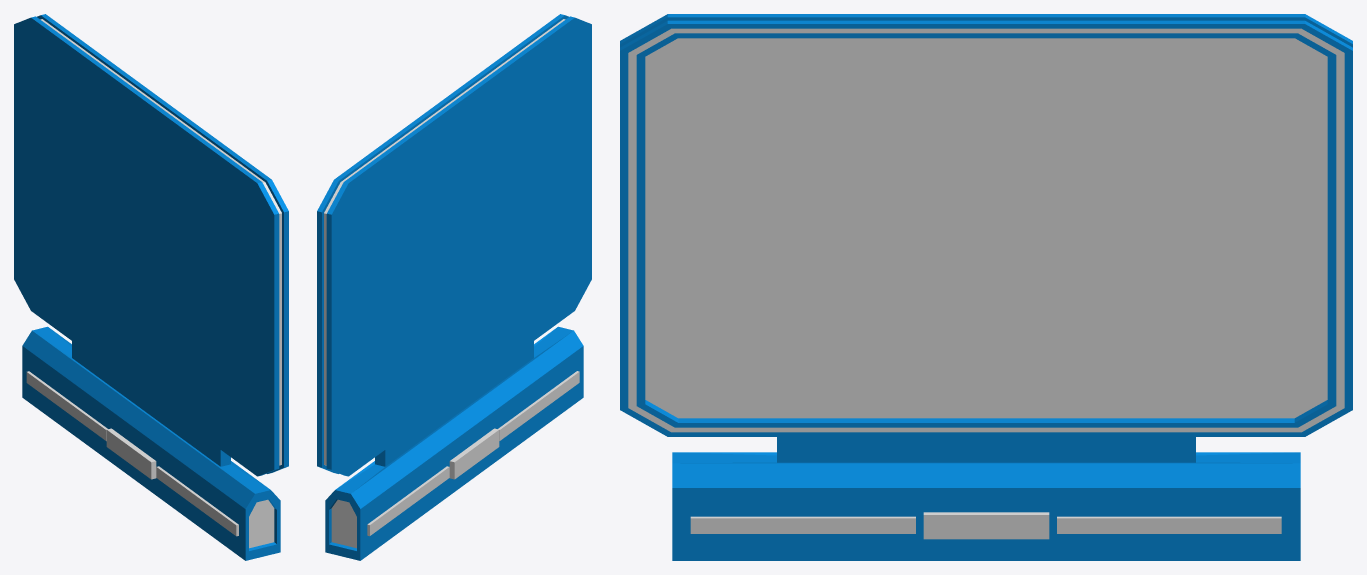
File: landscape.fbx
3 renders of one model, left to right at view 1: azimuth 30°, elevation 25°; view 2: azimuth 150°, elevation 25°; view 3: azimuth 270°, elevation 25°, orthographic. The views are drawn at different scales.
Visible parts, largest first — view 1: Cube.001; view 2: Cube.001; view 3: Cube.001.
Part boxes in pixels (x1,y1,x2,y2): Cube.001: [14, 14, 288, 560]; Cube.001: [317, 14, 591, 560]; Cube.001: [620, 14, 1352, 560].
Size of the model in its own units: 44.43 by 363 by 455.
